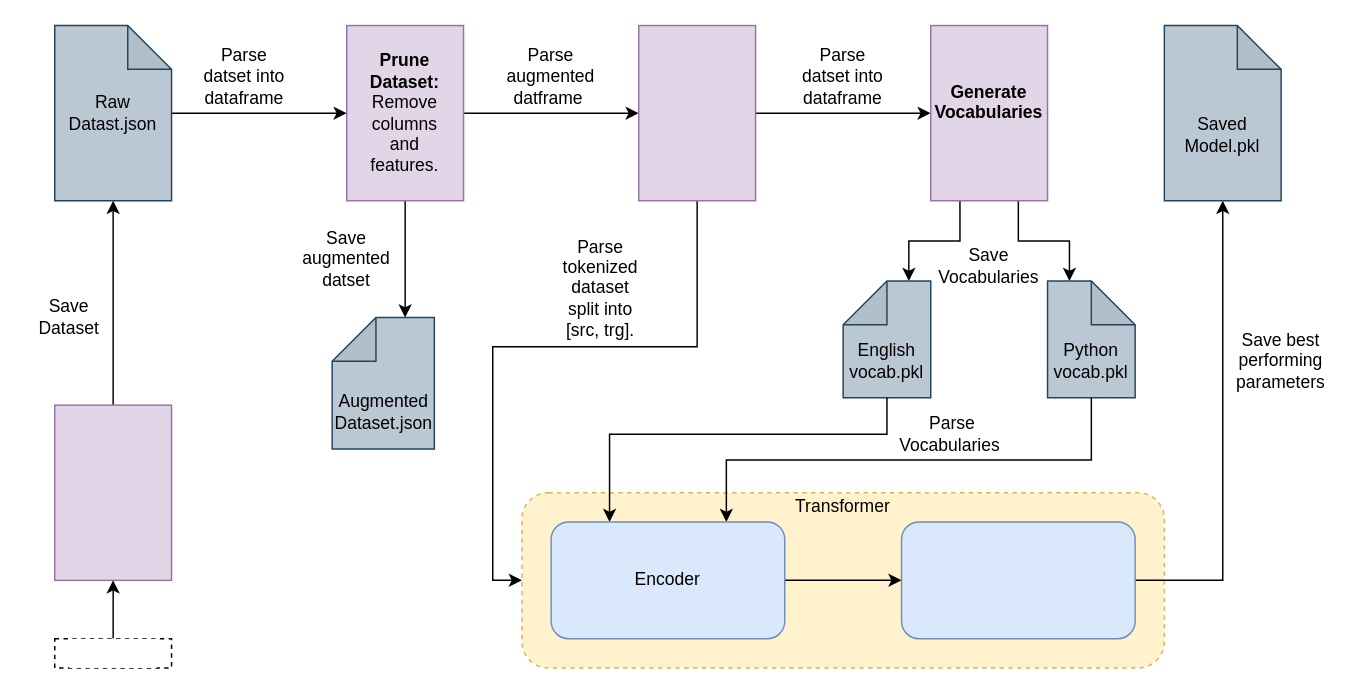
Some shapes in this 1351 by 694 pixel diagram are drawn without their labels. The centre of each missing label's shape, as x and y in pixels:
"Decoder" goes at point 1017,579.
"Download Dataset: OS independant command line tool." goes at point 112,492.
"Tokenize & Mask Dataset" goes at point 696,112.
"URL Input" goes at point 112,652.
